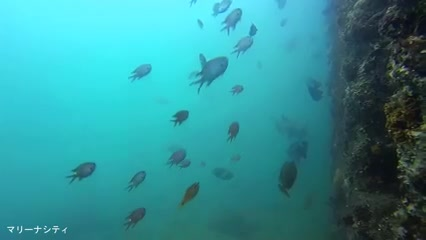mezina: (186, 52, 233, 93), (120, 200, 157, 233), (63, 158, 98, 188), (125, 167, 157, 199), (126, 61, 157, 87), (167, 146, 197, 169), (165, 103, 192, 128)
